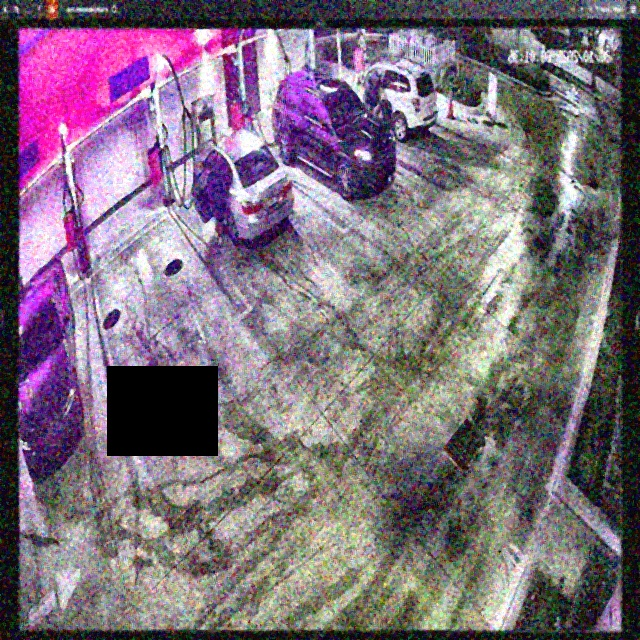Car: (272, 70, 394, 197), (193, 131, 294, 244)
